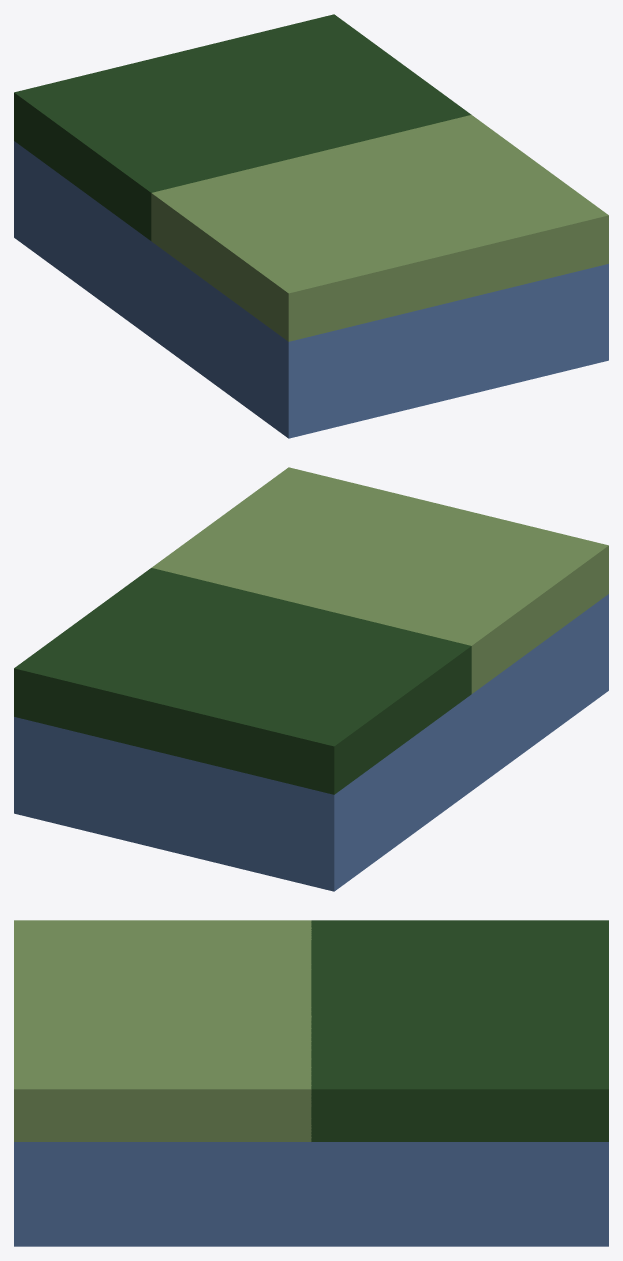
File: quad_31.glb
3 renders of one model, top to bottom at view 1: azimuth 30°, elevation 25°; view 2: azimuth 150°, elevation 25°; view 3: azimuth 270°, elevation 25°, orthographic. The views are drawn at different scales.
Visible parts, largest first — view 1: quad_31; view 2: quad_31; view 3: quad_31.
Part boxes in pixels (bbox=[...]): quad_31: bbox=[14, 14, 608, 438]; quad_31: bbox=[14, 467, 608, 891]; quad_31: bbox=[14, 920, 608, 1246].
Size of the model in its own units: 0.577 by 0.25 by 0.8571.
